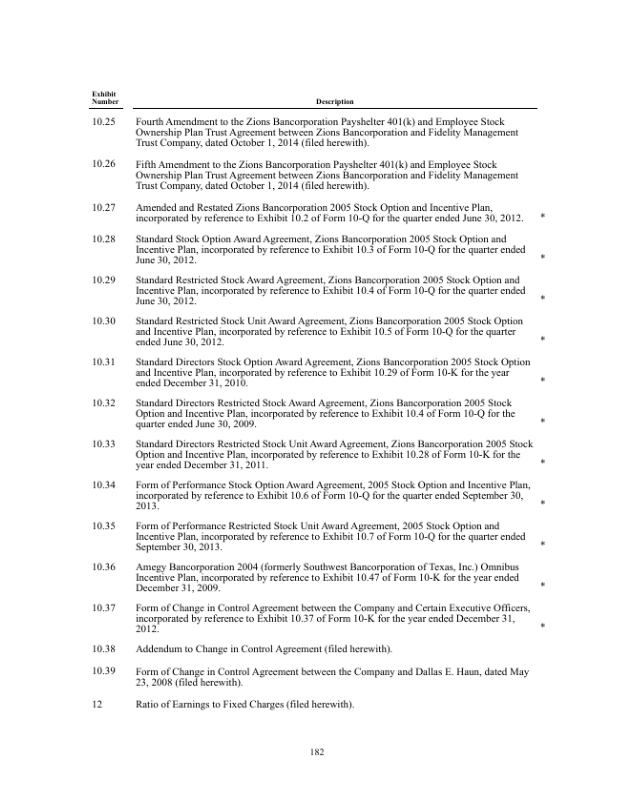table: (78, 88, 555, 723)
